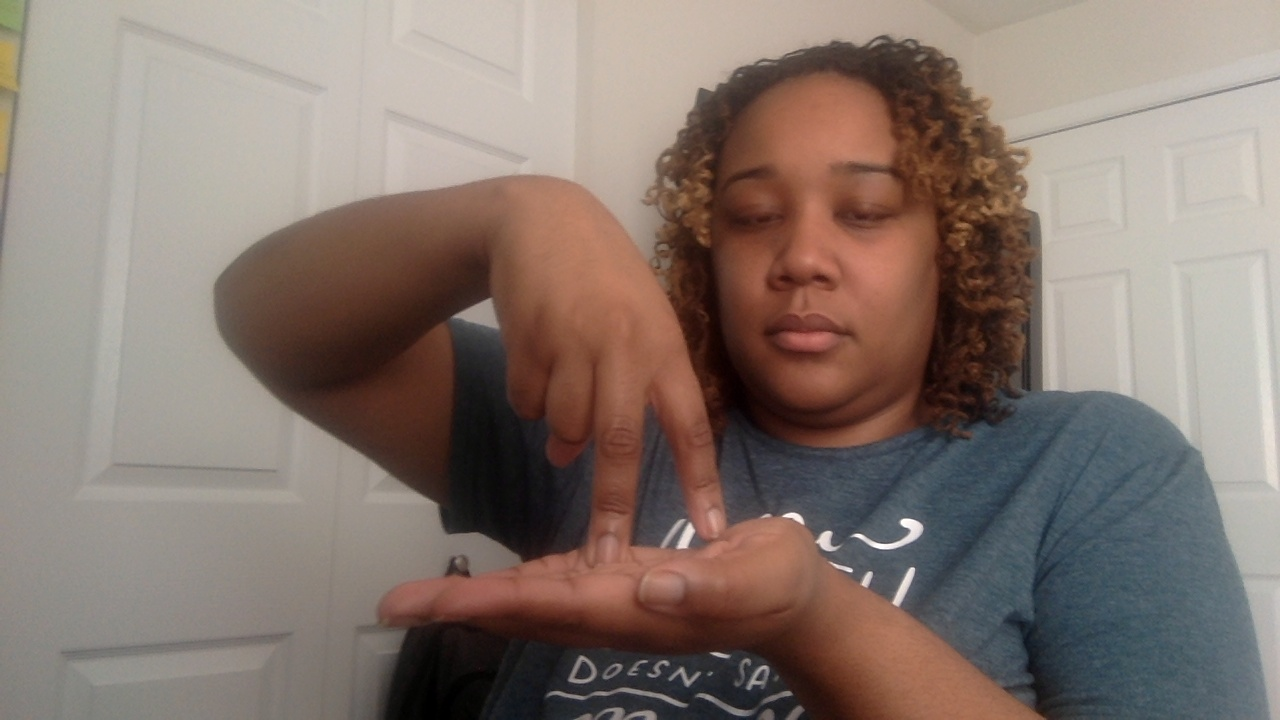fork: (210, 176, 749, 658)
